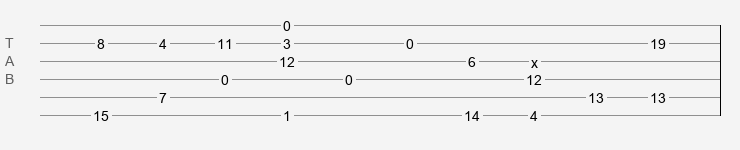0: (221, 72, 229, 82), (283, 18, 291, 28), (345, 72, 353, 82), (406, 36, 414, 46)
1: (283, 108, 291, 118)
11: (217, 36, 233, 46)
12: (279, 54, 295, 64), (526, 72, 542, 82)
13: (588, 90, 604, 100), (650, 90, 666, 100)
14: (464, 108, 480, 118)
15: (93, 108, 109, 118)
19: (650, 36, 666, 46)
3: (283, 36, 291, 46)
4: (159, 36, 167, 46), (530, 108, 538, 118)
6: (468, 54, 476, 64)
7: (159, 90, 167, 100)
8: (97, 36, 105, 46)
x: (531, 55, 538, 63)
